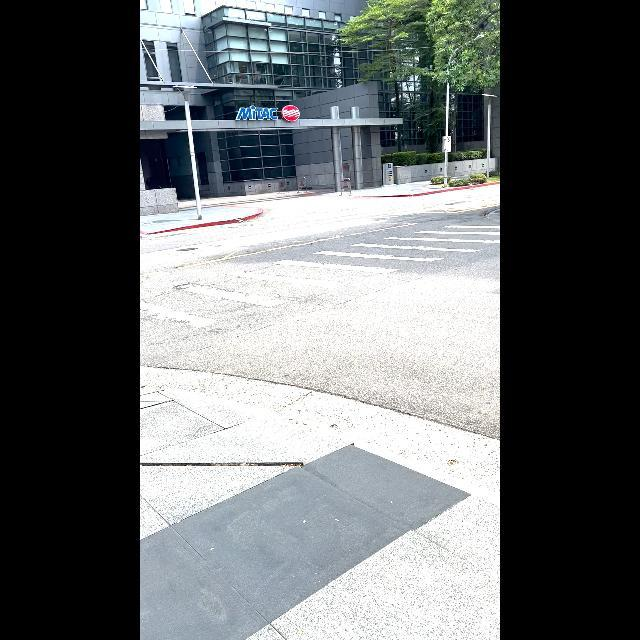sidewalk: (141, 224, 499, 329)
